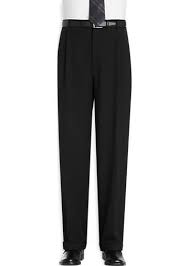F_belt: (52, 12, 135, 35)
F_dress pants: (51, 30, 136, 256)
